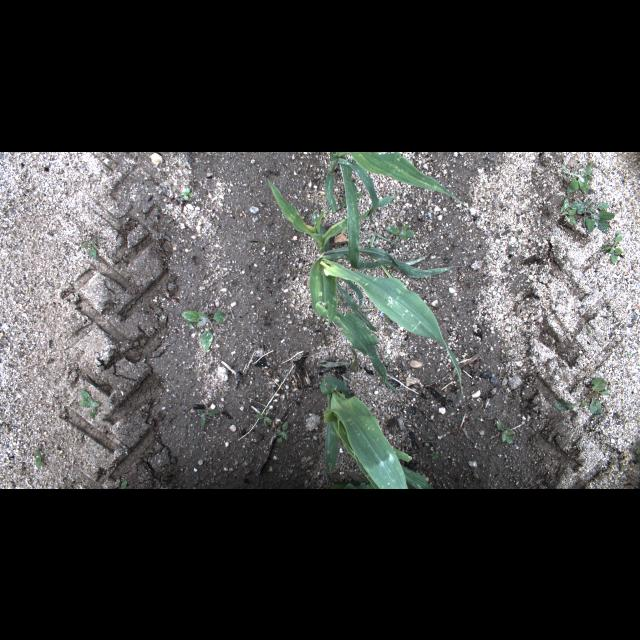crop: (268, 178, 464, 404), (324, 152, 468, 268), (320, 374, 434, 488), (330, 478, 376, 488)
weed: (181, 310, 225, 352), (569, 200, 615, 232), (562, 160, 592, 194), (586, 378, 610, 417), (370, 232, 412, 252), (552, 197, 578, 225), (602, 230, 624, 262), (78, 388, 100, 419), (385, 224, 413, 244), (196, 408, 220, 426), (497, 422, 515, 444), (554, 398, 586, 410), (254, 408, 272, 426), (82, 240, 96, 258), (277, 421, 289, 442), (34, 448, 44, 468), (182, 187, 194, 201), (119, 478, 128, 488), (184, 318, 193, 328), (384, 312, 391, 324), (383, 362, 392, 371), (430, 450, 438, 460), (636, 443, 640, 463), (586, 327, 592, 337), (514, 230, 518, 242), (386, 356, 390, 362), (628, 352, 632, 356)
